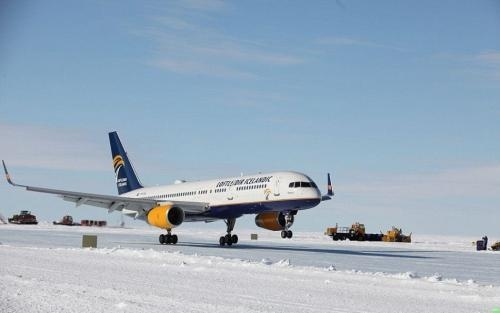airplane: (3, 130, 337, 249)
